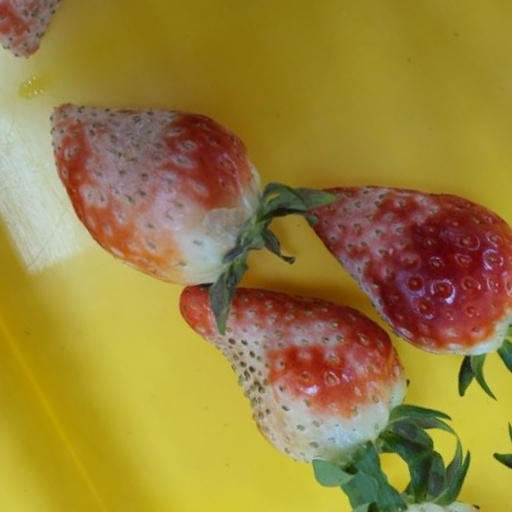Powdery Mildew Fruit: (119, 252, 301, 484), (161, 28, 335, 264), (319, 58, 494, 283)
